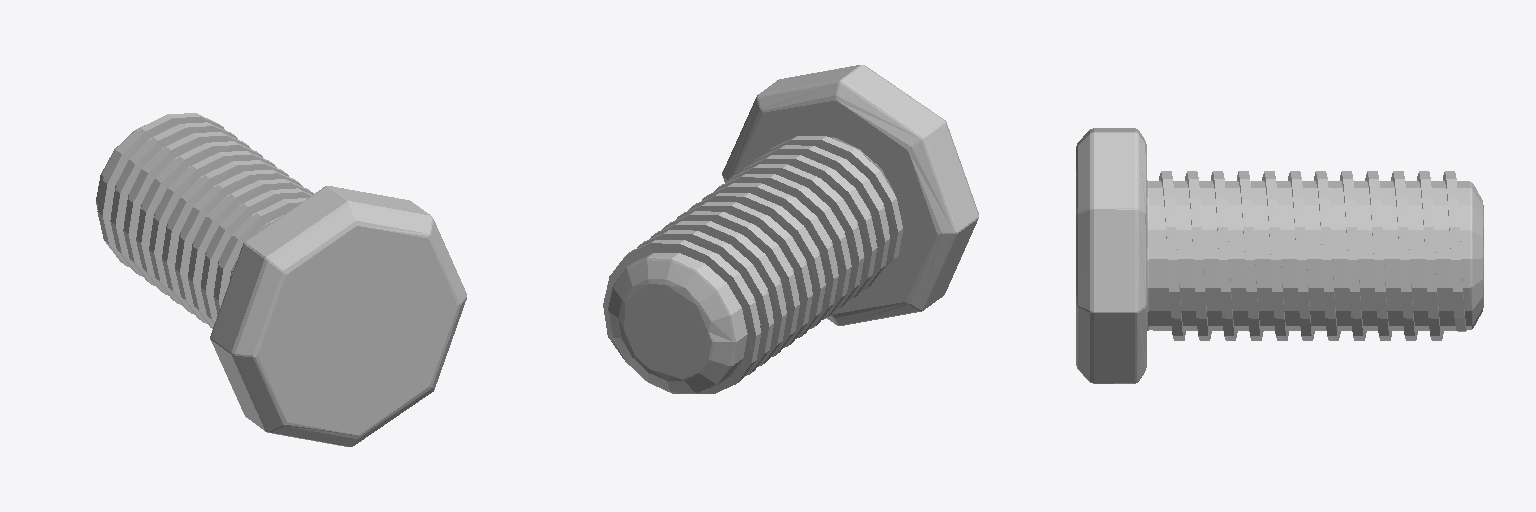
The model's file is tinker.obj.
3 views of the same model, side by side, from view 1: azimuth 30°, elevation 25°; view 2: azimuth 150°, elevation 25°; view 3: azimuth 270°, elevation 25° (orthographic).
Visible parts, largest first — view 1: obj_0.039; view 2: obj_0.039; view 3: obj_0.039.
Part boxes in pixels (left/top/right/bottom): obj_0.039: left=96, top=113, right=466, bottom=446; obj_0.039: left=603, top=65, right=978, bottom=393; obj_0.039: left=1076, top=128, right=1483, bottom=383.
Bounding box in the file's own units: 1 × 1 × 1.5.